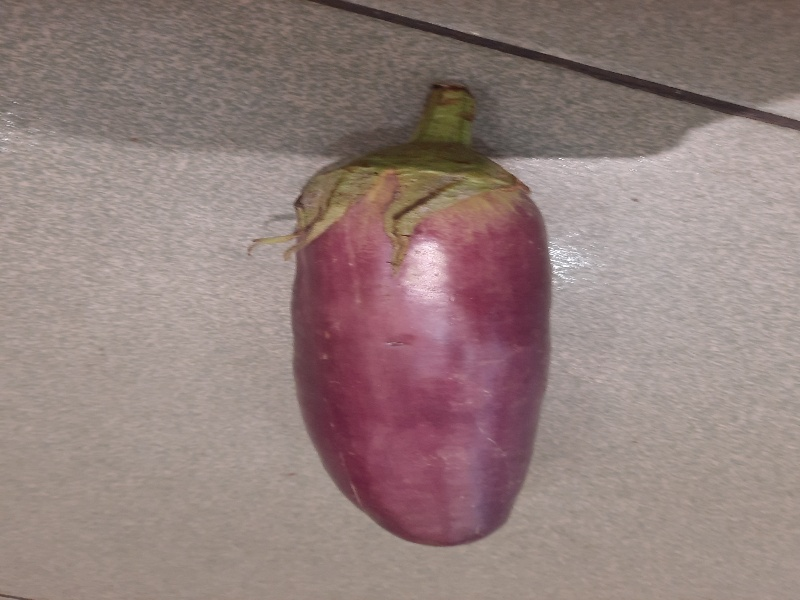vege: (281, 74, 558, 573)
